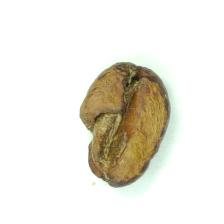NG: (78, 106, 130, 185), (107, 60, 169, 105)
